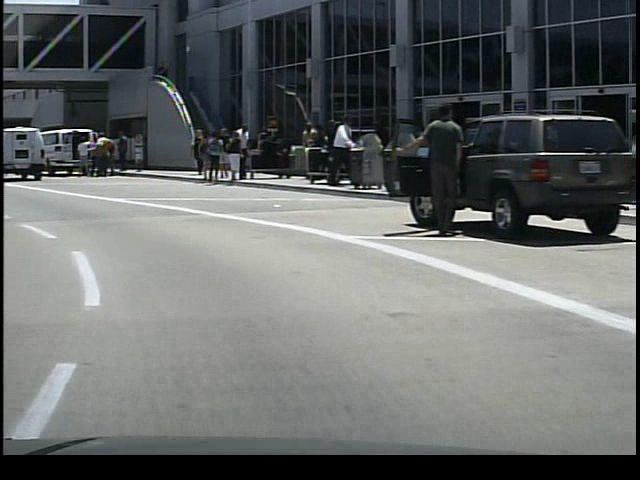person: (400, 83, 468, 240), (319, 109, 353, 196), (228, 122, 253, 181), (220, 129, 243, 180), (185, 125, 206, 176), (110, 129, 132, 176), (90, 130, 110, 181), (74, 135, 92, 180)
